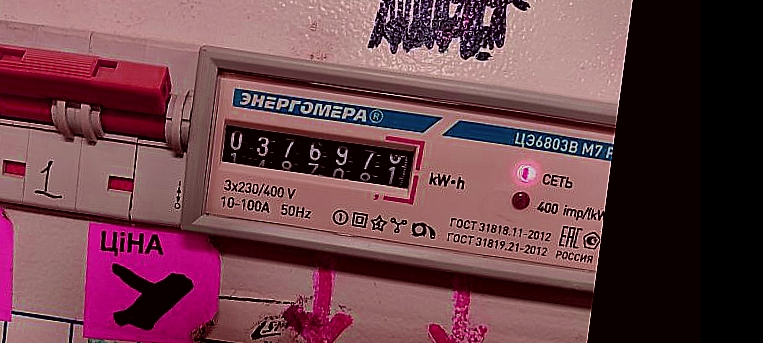0: (227, 127, 245, 151)
1: (385, 163, 396, 186)
3: (254, 134, 270, 157)
6: (306, 137, 324, 162)
7: (360, 145, 377, 170), (280, 135, 297, 159)
9: (333, 142, 350, 166)
screen: (207, 108, 428, 208)
